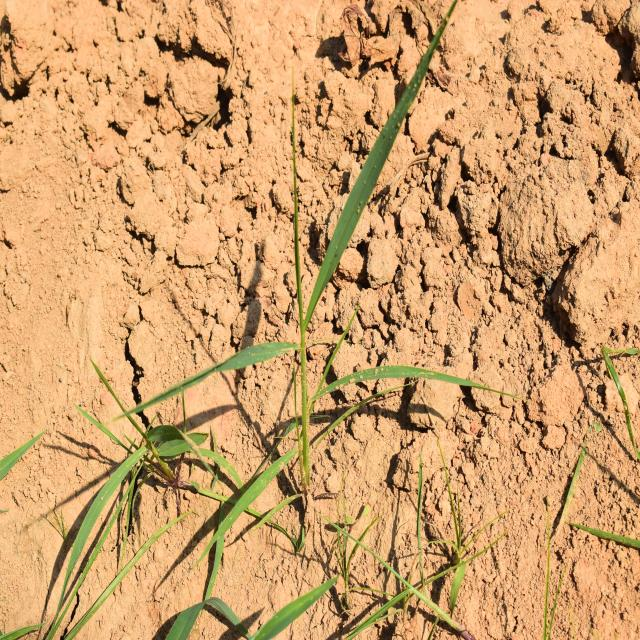green_foxtail: (186, 86, 436, 461), (50, 426, 202, 552)
